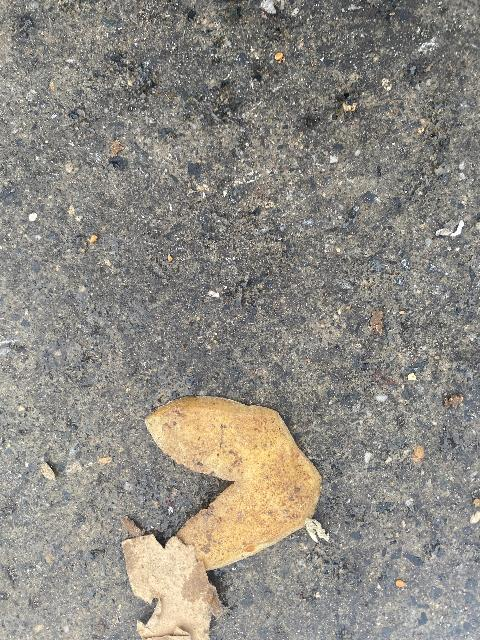Organik: (144, 394, 324, 572)
